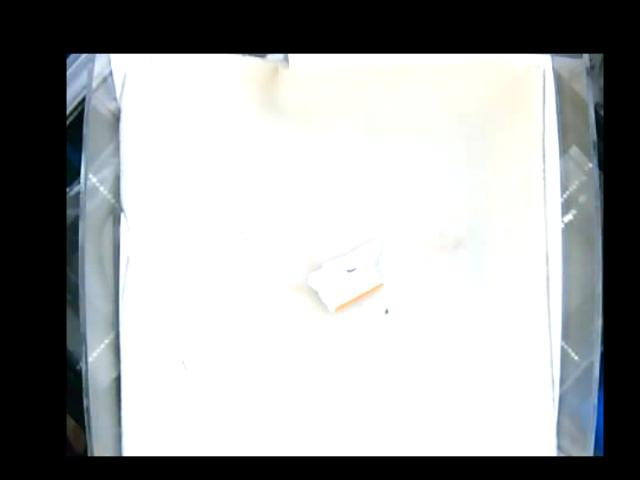China: (308, 228, 396, 312)
